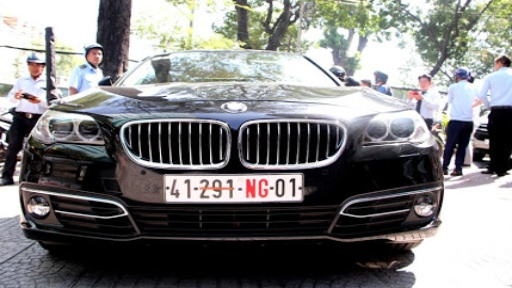plate: (160, 173, 305, 203)
